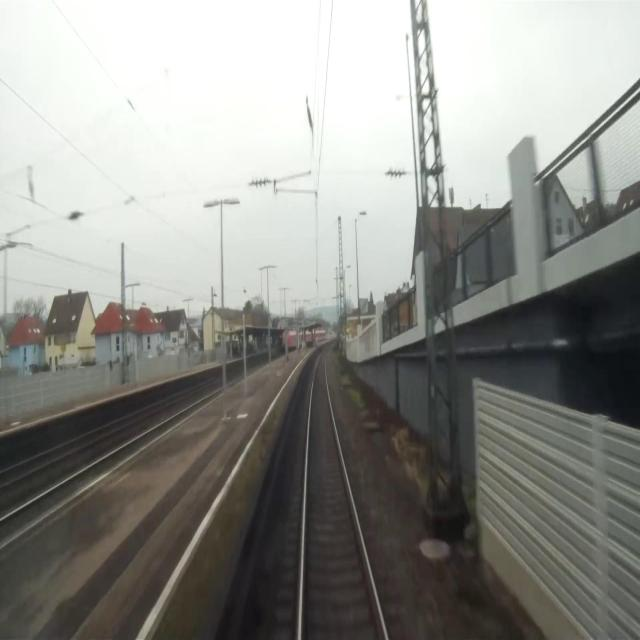rail-track: (302, 351, 384, 639)
